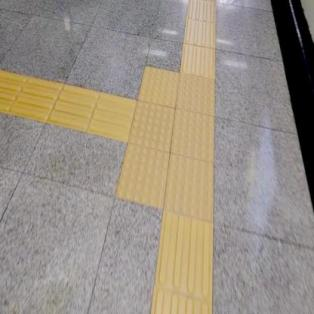Podoctatil: (104, 46, 237, 236), (0, 68, 128, 143), (148, 224, 215, 314), (180, 0, 227, 71)
